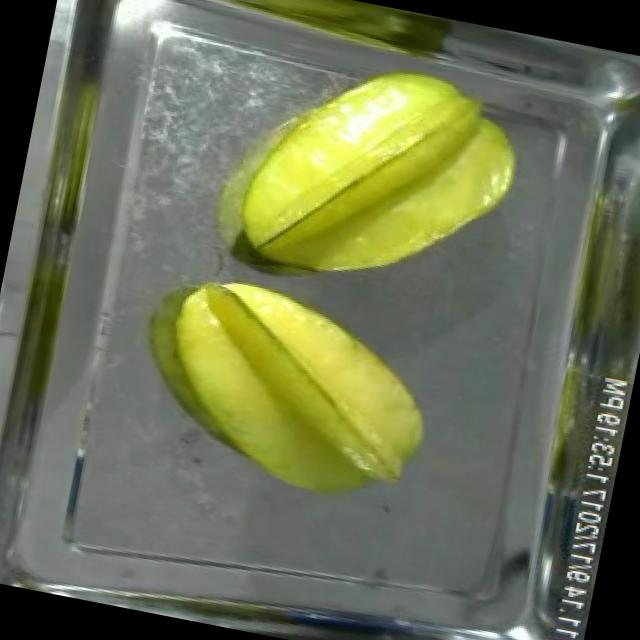fruit: (215, 28, 548, 322), (132, 259, 458, 526)
